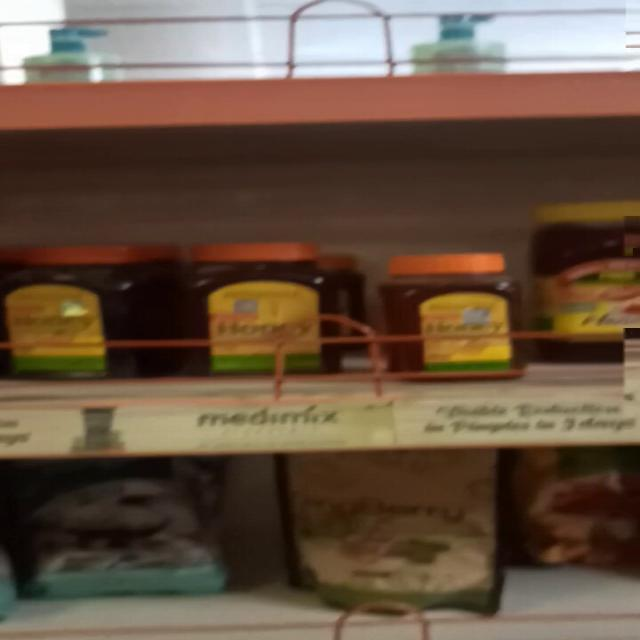Patanjali Honey: (175, 240, 338, 372), (380, 255, 524, 375)
